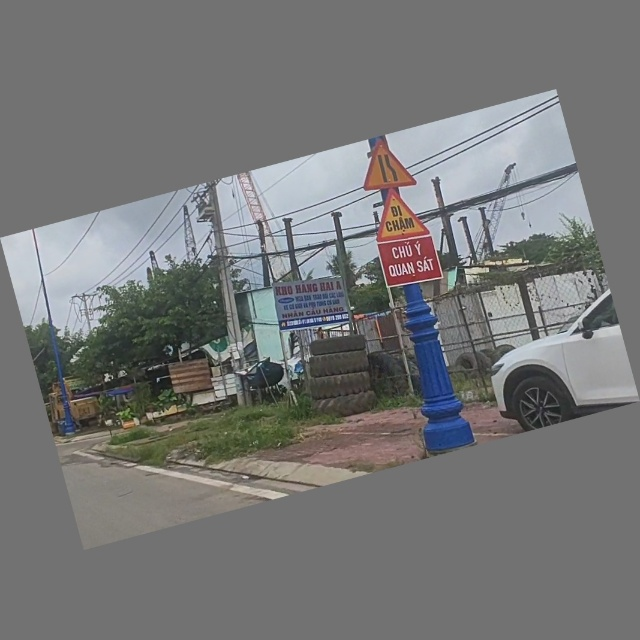W.203c: (353, 133, 418, 197)
W.245a: (366, 183, 432, 248)
